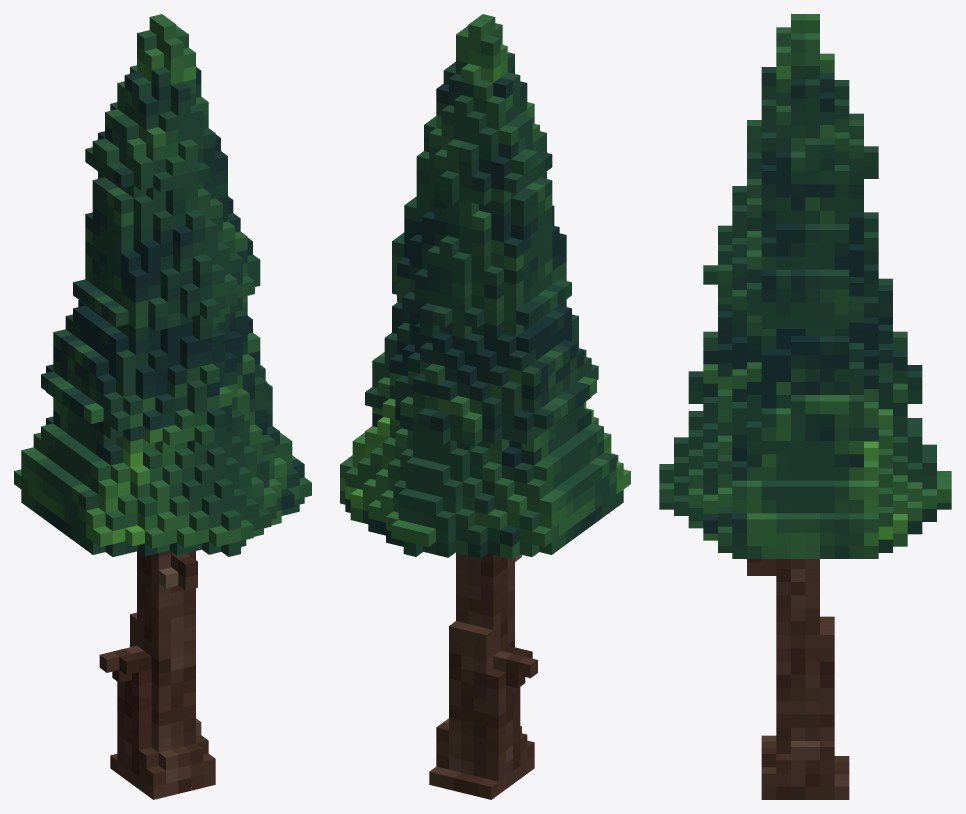
The model's file is Conifer8.fbx.
3 views of the same model, side by side, from view 1: azimuth 30°, elevation 25°; view 2: azimuth 150°, elevation 25°; view 3: azimuth 270°, elevation 25° (orthographic).
Visible parts, largest first — view 1: Conifer8; view 2: Conifer8; view 3: Conifer8.
Boxes of the visible parts, x1,y1,x2,y2 form: Conifer8: (14,14,311,799); Conifer8: (340,14,630,799); Conifer8: (659,14,951,799).
Bounding box in the file's own units: 1.7 × 5.8 × 2.
